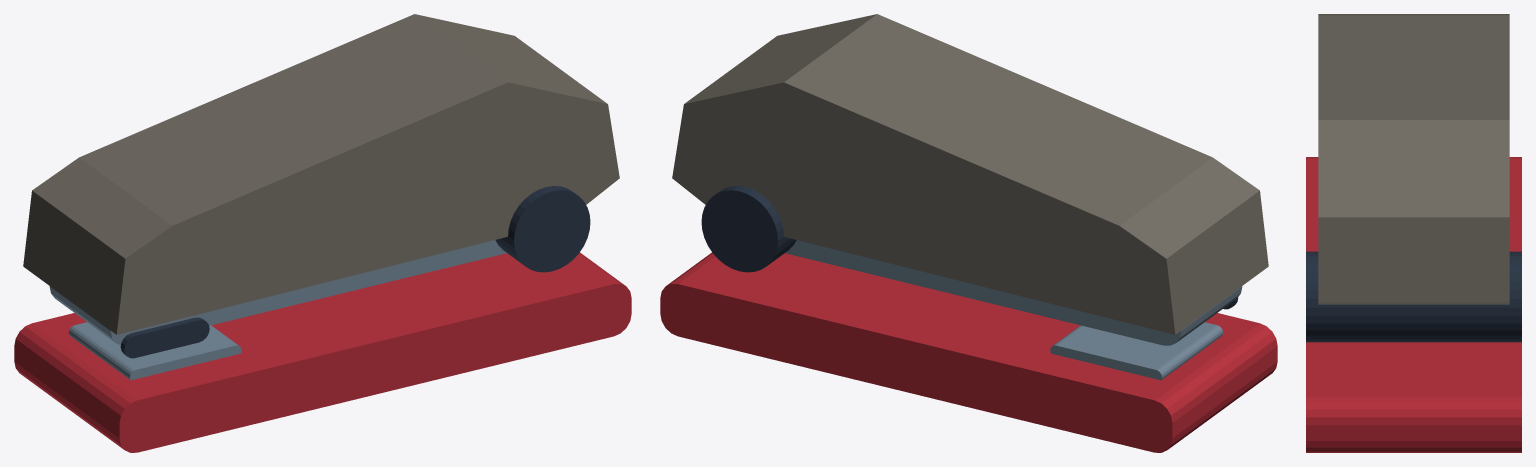
File: nailer.glb
3 renders of one model, left to right at view 1: azimuth 30°, elevation 25°; view 2: azimuth 150°, elevation 25°; view 3: azimuth 270°, elevation 25°, orthographic. The views are drawn at different scales.
Parts seen in each view (by area): view 1: lever, base, hinge, magazine, anvil, paper notch; view 2: lever, base, magazine, hinge, anvil; view 3: lever, base, hinge.
Part boxes in pixels (bbox=[...]): lever: bbox=[23, 14, 619, 334]; base: bbox=[14, 252, 631, 452]; hinge: bbox=[495, 186, 590, 272]; magazine: bbox=[49, 240, 506, 345]; anvil: bbox=[68, 322, 241, 380]; paper notch: bbox=[120, 317, 209, 358]; lever: bbox=[672, 14, 1268, 334]; base: bbox=[660, 252, 1277, 452]; magazine: bbox=[785, 240, 1242, 345]; hinge: bbox=[701, 186, 796, 272]; anvil: bbox=[1050, 322, 1223, 380]; lever: bbox=[1318, 14, 1509, 304]; base: bbox=[1306, 157, 1521, 452]; hinge: bbox=[1306, 251, 1521, 342].
Bounding box in the file's own units: 1.74 × 0.89 × 0.62.
